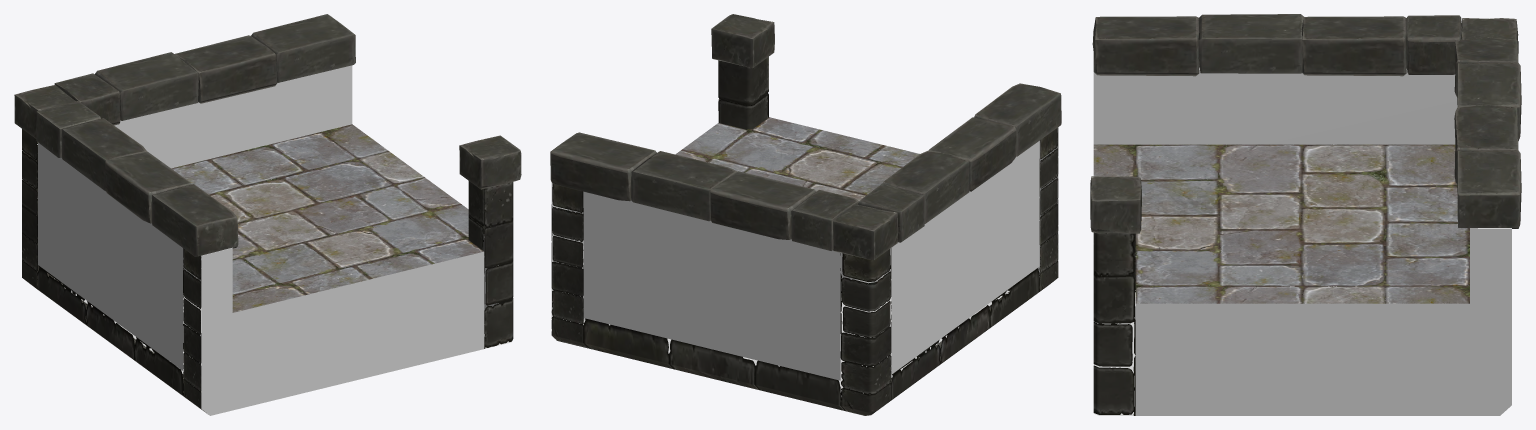
3 renders of one model, left to right at view 1: azimuth 30°, elevation 25°; view 2: azimuth 150°, elevation 25°; view 3: azimuth 270°, elevation 25°, orthographic. The views are drawn at different scales.
Visible parts, largest first — view 1: SM_Dowdun_Walkway_5x5x10_03_LOD0; view 2: SM_Dowdun_Walkway_5x5x10_03_LOD0; view 3: SM_Dowdun_Walkway_5x5x10_03_LOD0.
Boxes of the visible parts, left/top/right/bottom form: SM_Dowdun_Walkway_5x5x10_03_LOD0: left=14, top=14, right=521, bottom=415; SM_Dowdun_Walkway_5x5x10_03_LOD0: left=550, top=14, right=1061, bottom=415; SM_Dowdun_Walkway_5x5x10_03_LOD0: left=1090, top=14, right=1521, bottom=415.
Size of the model in its own units: 5.27 by 2.97 by 5.22.
4 materials, 3 textured.
